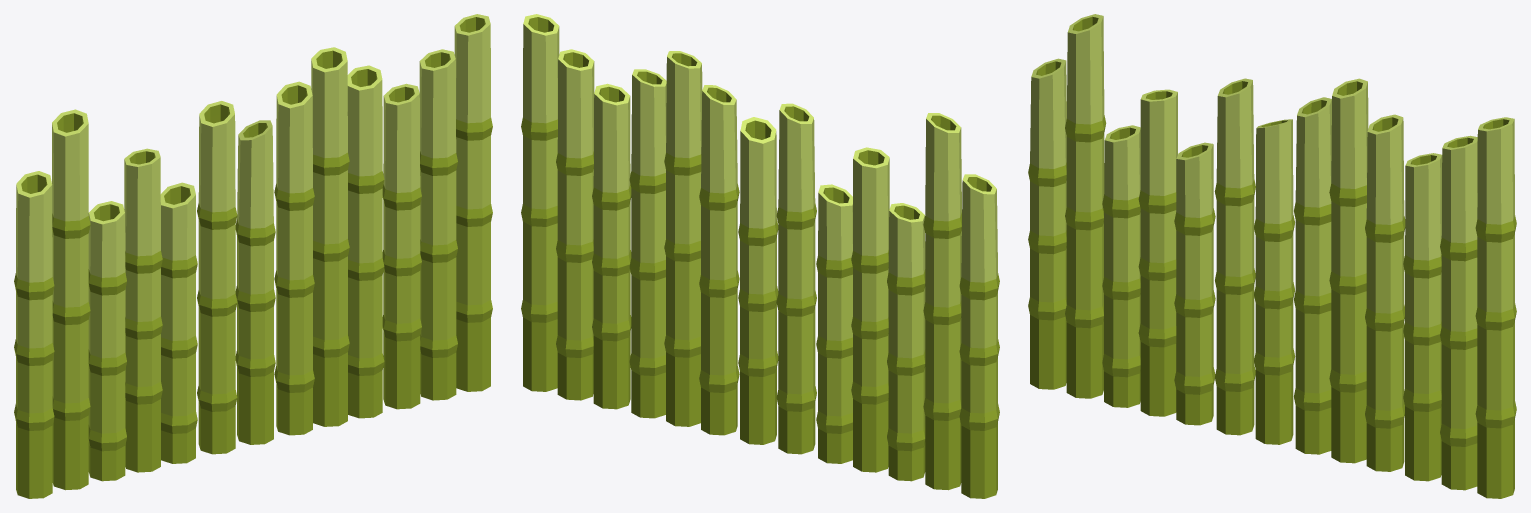
The model's file is fence_bamboo_green_2.fbx.
The picture shows the model from 3 angles, left to right: view 1: azimuth 30°, elevation 25°; view 2: azimuth 150°, elevation 25°; view 3: azimuth 330°, elevation 25°; orthographic projection. The views are drawn at different scales.
Visible parts, largest first — view 1: fence_bamboo_green_2; view 2: fence_bamboo_green_2; view 3: fence_bamboo_green_2.
Boxes of the visible parts, x1,y1,x2,y2 form: fence_bamboo_green_2: [14, 14, 492, 498]; fence_bamboo_green_2: [521, 14, 999, 498]; fence_bamboo_green_2: [1028, 14, 1516, 498].
Size of the model in its own units: 317 by 233 by 24.2.
